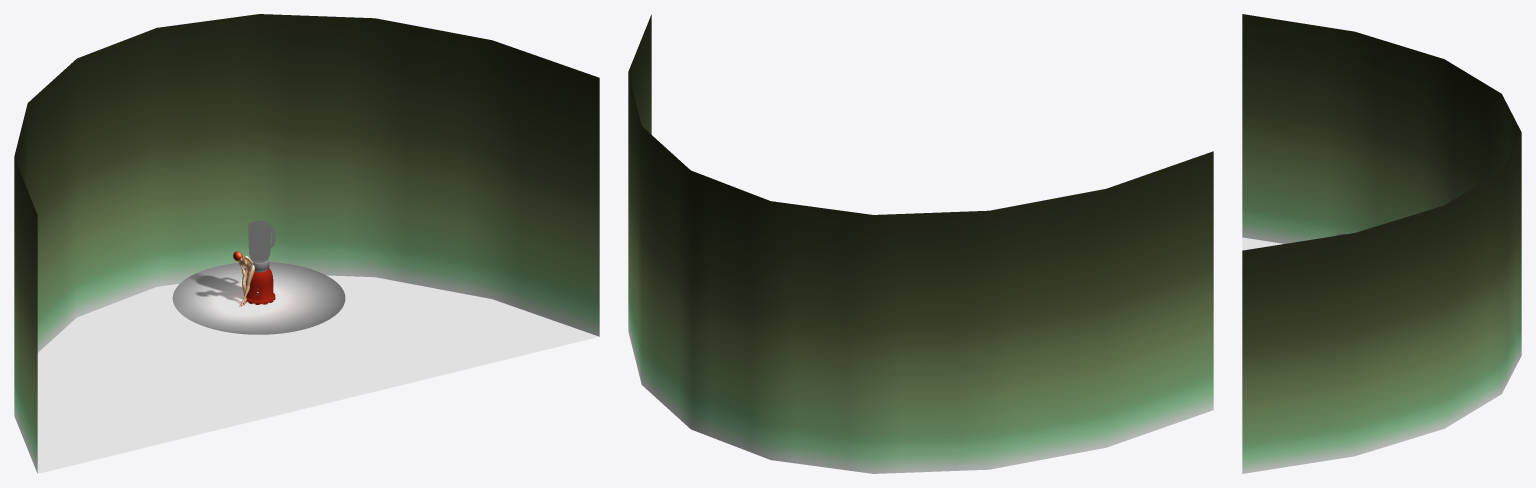
File: mix1.fbx
3 views of the same model, side by side, from view 1: azimuth 30°, elevation 25°; view 2: azimuth 150°, elevation 25°; view 3: azimuth 270°, elevation 25° (orthographic). The views are drawn at different scales.
Parts seen in each view (by area): view 1: back, alphaG, addENV, reedENV1; view 2: back; view 3: back.
Boxes of the visible parts, bbox=[...] form: back: bbox=[14, 14, 599, 473]; alphaG: bbox=[172, 262, 345, 334]; addENV: bbox=[248, 220, 275, 262]; reedENV1: bbox=[246, 268, 275, 304]; back: bbox=[628, 14, 1213, 473]; back: bbox=[1242, 14, 1521, 473].
Bounding box in the file's own units: 15.72 × 6.92 × 7.84.
7 materials, 4 textured.
